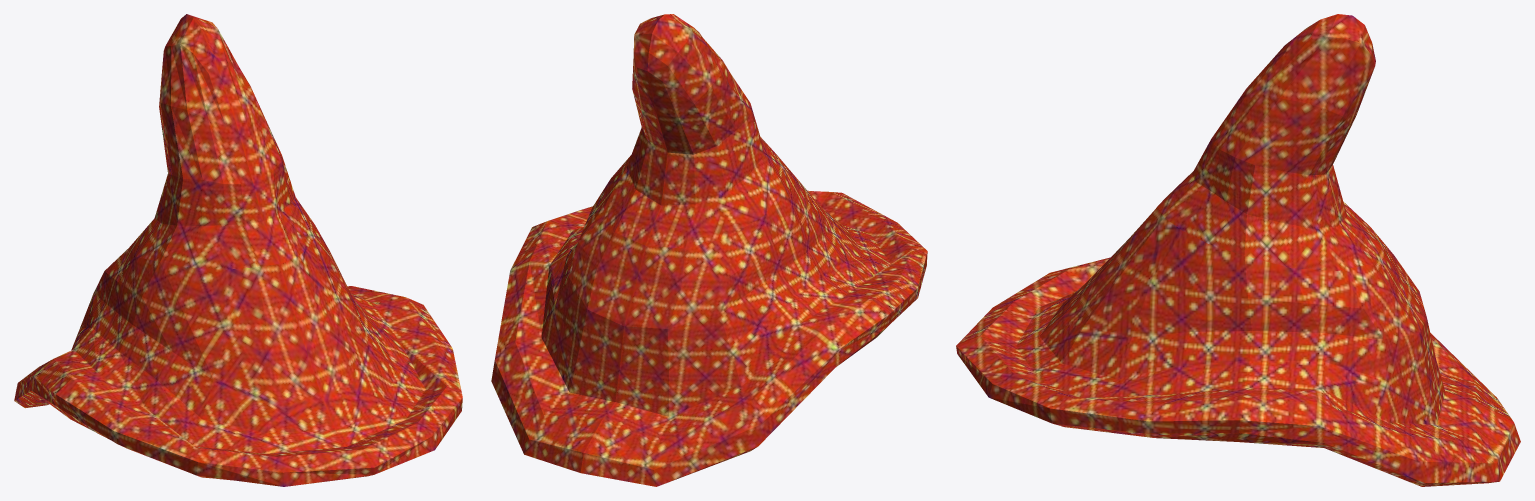
Rendered from mhw_maciekg_wizard_hat.glb.
The picture shows the model from 3 angles, left to right: view 1: azimuth 30°, elevation 25°; view 2: azimuth 150°, elevation 25°; view 3: azimuth 270°, elevation 25°; orthographic projection. The views are drawn at different scales.
Parts seen in each view (by area): view 1: mhw_maciekg_wizard_hat; view 2: mhw_maciekg_wizard_hat; view 3: mhw_maciekg_wizard_hat.
Boxes of the visible parts, bbox=[...] form: mhw_maciekg_wizard_hat: bbox=[14, 14, 462, 486]; mhw_maciekg_wizard_hat: bbox=[491, 14, 927, 486]; mhw_maciekg_wizard_hat: bbox=[956, 14, 1520, 486].
Size of the model in its own units: 0.2956 by 0.3199 by 0.3749.
1 material, 1 textured.
